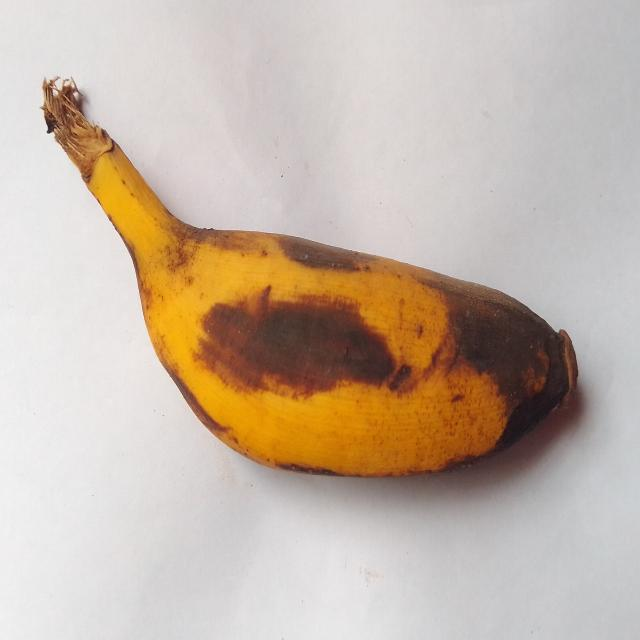banana: (44, 81, 577, 476)
